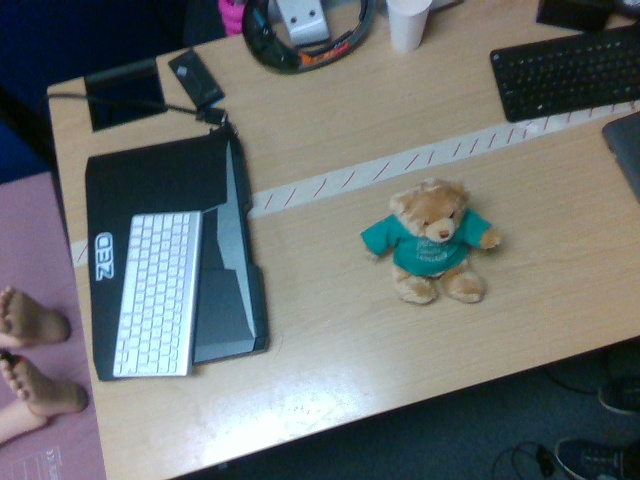teddy: (362, 178, 505, 303)
